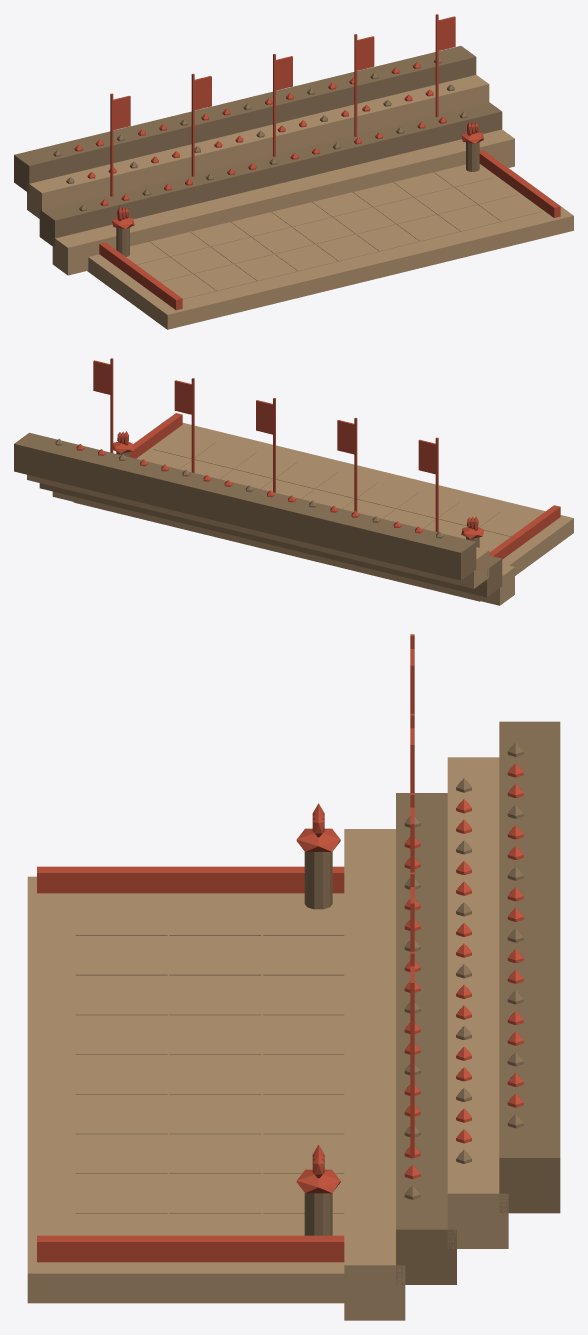
The model's file is arena_athens_colosseum.glb.
3 renders of one model, top to bottom at view 1: azimuth 30°, elevation 25°; view 2: azimuth 150°, elevation 25°; view 3: azimuth 270°, elevation 25°, orthographic. The views are drawn at different scales.
Parts seen in each view (by area): view 1: TERRACE.003, FLOOR, TERRACE.002, TERRACE.001, TERRACE, BOUNDARY, BOUNDARY.001, TILE.004, TILE.006, TILE.009, TILE.024, TILE.007 (+27 smaller); view 2: TERRACE.003, FLOOR, TERRACE.001, TERRACE.002, TERRACE, BOUNDARY, TILE.009, TILE.021, TILE.015, TILE.012, TILE.006, TILE.024 (+21 smaller); view 3: FLOOR, TERRACE.003, TERRACE, TERRACE.002, TERRACE.001, BOUNDARY.001, BOUNDARY, TILE.006, TILE.007, TILE.015, TILE.016, TILE (+24 smaller).
Boxes of the visible parts, left/top/right/bottom form: TERRACE.003: left=14, top=46, right=476, bottom=193; FLOOR: left=87, top=158, right=573, bottom=329; TERRACE.002: left=27, top=75, right=489, bottom=218; TERRACE.001: left=39, top=102, right=502, bottom=247; TERRACE: left=52, top=129, right=514, bottom=275; BOUNDARY: left=99, top=242, right=182, bottom=310; BOUNDARY.001: left=479, top=150, right=560, bottom=217; TILE.004: left=170, top=247, right=232, bottom=273; TILE.006: left=234, top=254, right=297, bottom=281; TILE.009: left=275, top=244, right=337, bottom=271; TILE.024: left=478, top=195, right=540, bottom=221; TILE.007: left=211, top=237, right=273, bottom=263; TERRACE.003: left=14, top=432, right=476, bottom=580; FLOOR: left=73, top=419, right=573, bottom=601; TERRACE.001: left=39, top=483, right=502, bottom=597; TERRACE.002: left=27, top=474, right=489, bottom=588; TERRACE: left=52, top=491, right=514, bottom=605; BOUNDARY: left=489, top=505, right=560, bottom=559; TILE.009: left=357, top=482, right=418, bottom=508; TILE.021: left=194, top=442, right=256, bottom=469; TILE.015: left=276, top=462, right=337, bottom=488; TILE.012: left=316, top=472, right=378, bottom=498; TILE.006: left=397, top=492, right=459, bottom=518; TILE.024: left=153, top=432, right=215, bottom=458; FLOOR: left=27, top=876, right=344, bottom=1303; TERRACE.003: left=499, top=721, right=560, bottom=1213; TERRACE: left=344, top=829, right=405, bottom=1320; TERRACE.002: left=447, top=757, right=508, bottom=1248; TERRACE.001: left=396, top=793, right=456, bottom=1284; BOUNDARY.001: left=37, top=1235, right=344, bottom=1262; BOUNDARY: left=37, top=866, right=344, bottom=893; TILE.006: left=75, top=975, right=167, bottom=1015; TILE.007: left=169, top=975, right=261, bottom=1015; TILE.015: left=75, top=1094, right=167, bottom=1134; TILE.016: left=169, top=1094, right=261, bottom=1134; TILE: left=75, top=896, right=167, bottom=935.
Bounding box in the file's own units: 11 × 3.65 × 5.67.
